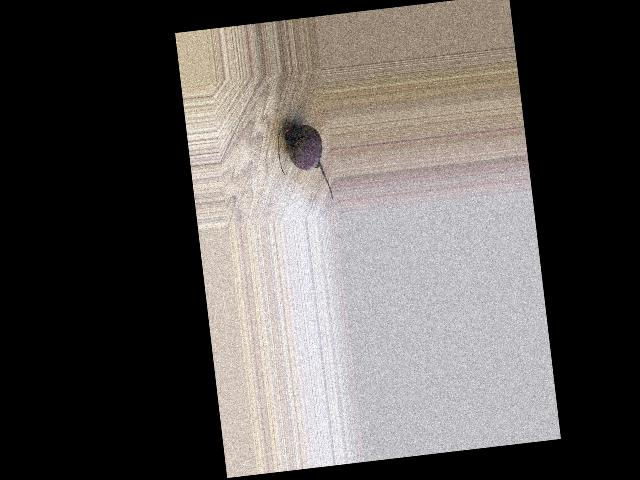beet: (275, 120, 333, 205)
